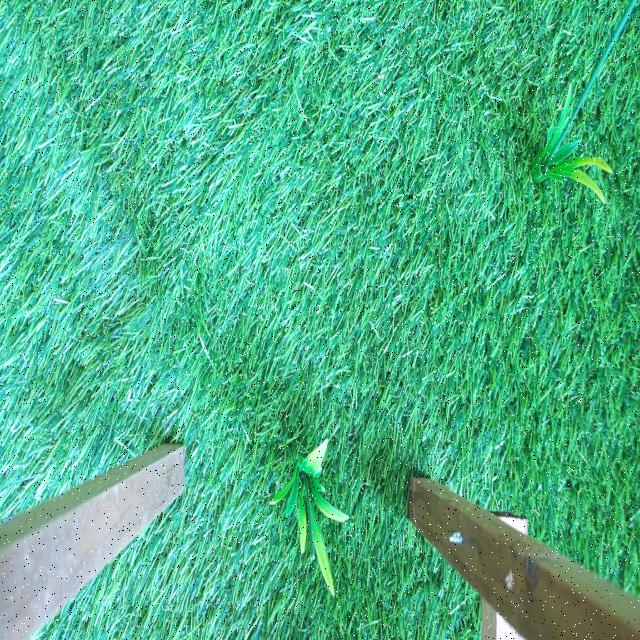base: (275, 438, 347, 594), (531, 86, 611, 206)
